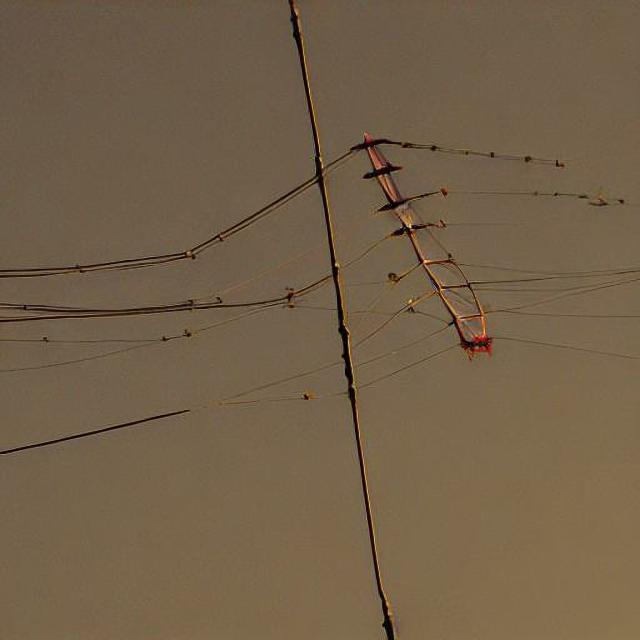floating object: (373, 185, 448, 221), (454, 314, 493, 360), (580, 185, 628, 209), (297, 384, 323, 402)
